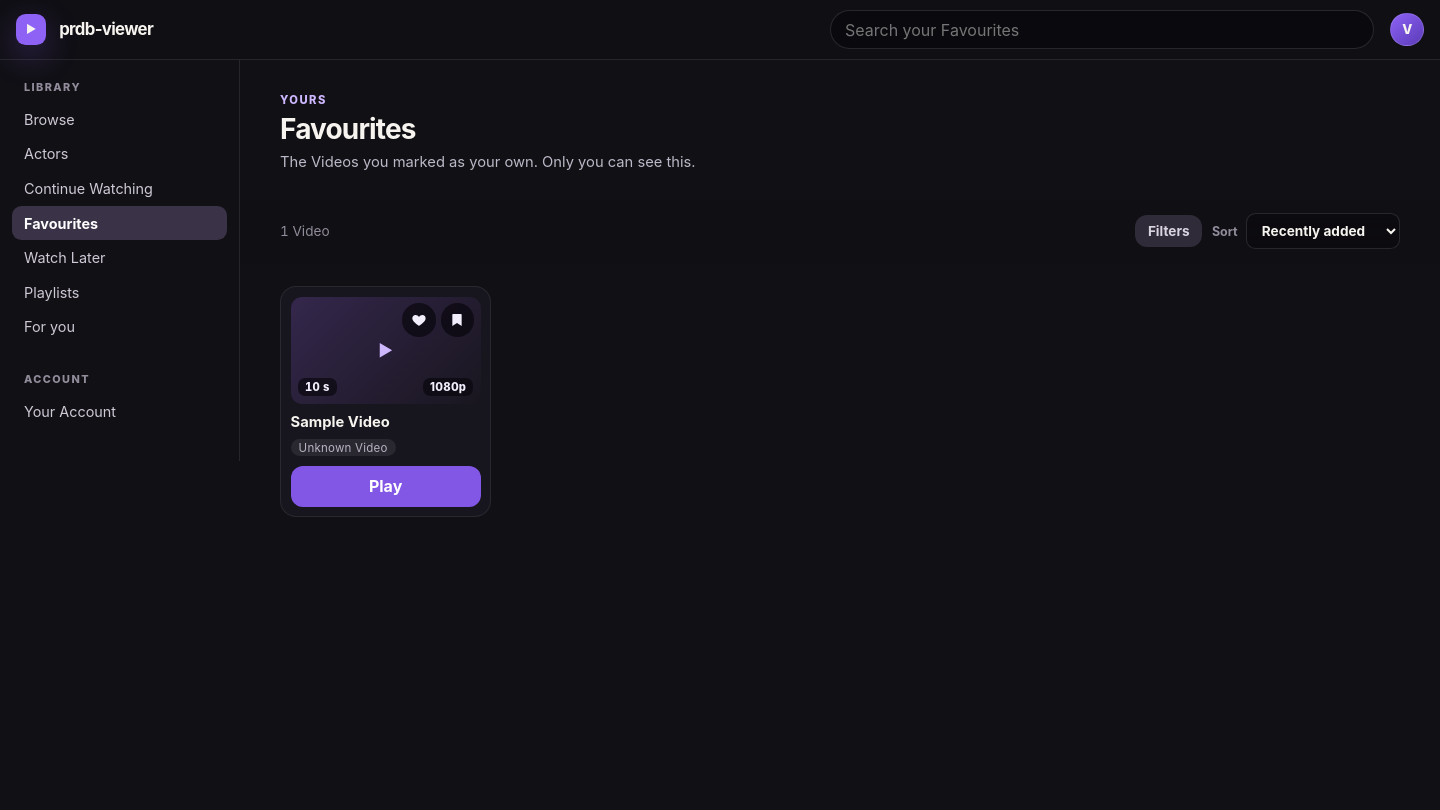
Scenario: The application shell › searches the shelf that is open, and offers the whole library one link away
The width and height of the screenshot is (1440, 810).
Expected: the heading "Favourites" is shown, x1=280 y1=112 x2=416 y2=146
Expected: the dropdown labelled "Sort" shows "Recently added", x1=1246 y1=213 x2=1400 y2=249
Note: Typing in the header searches this shelf rather than leading away from it.
Type "beach" into the search field labelled "Search your Favourites".
click(1102, 30); type("beach")  # box x1=830 y1=10 x2=1374 y2=49
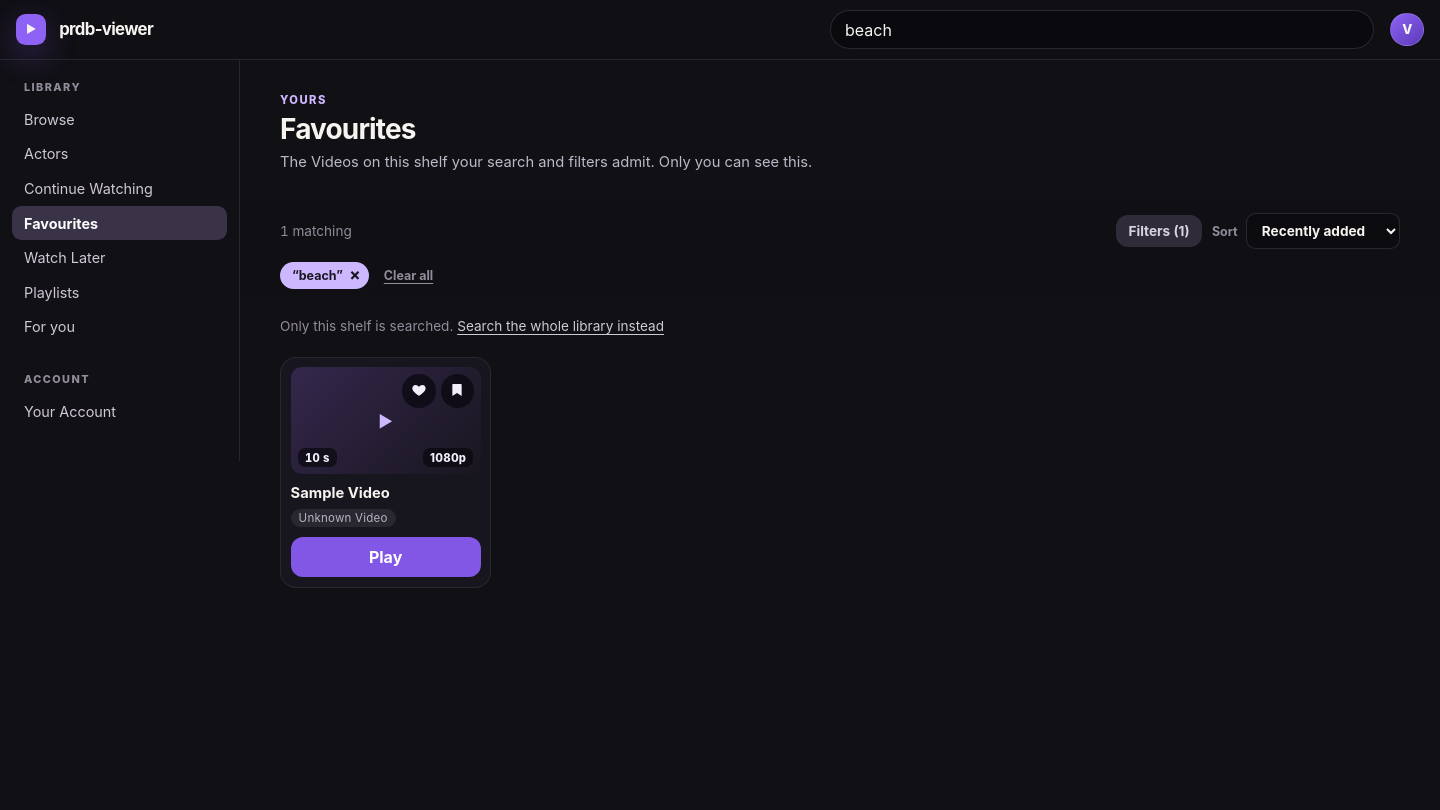
Expected: the heading "Favourites" is shown, x1=280 y1=112 x2=416 y2=146
Click the link "Search the whole library instead".
click(561, 326)  # box x1=457 y1=318 x2=664 y2=334
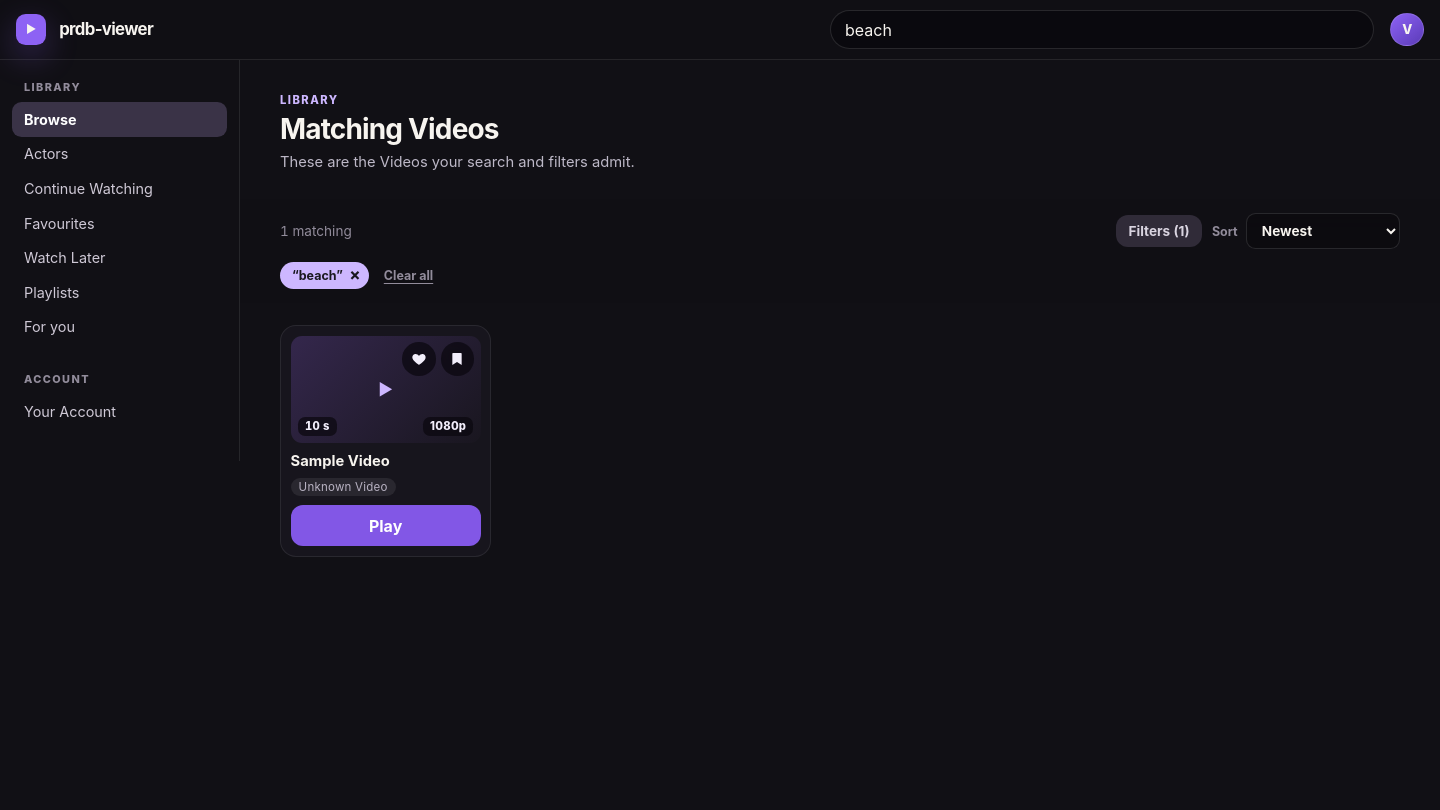
Now the heading "Matching Videos" is shown, box x1=280 y1=112 x2=499 y2=146
